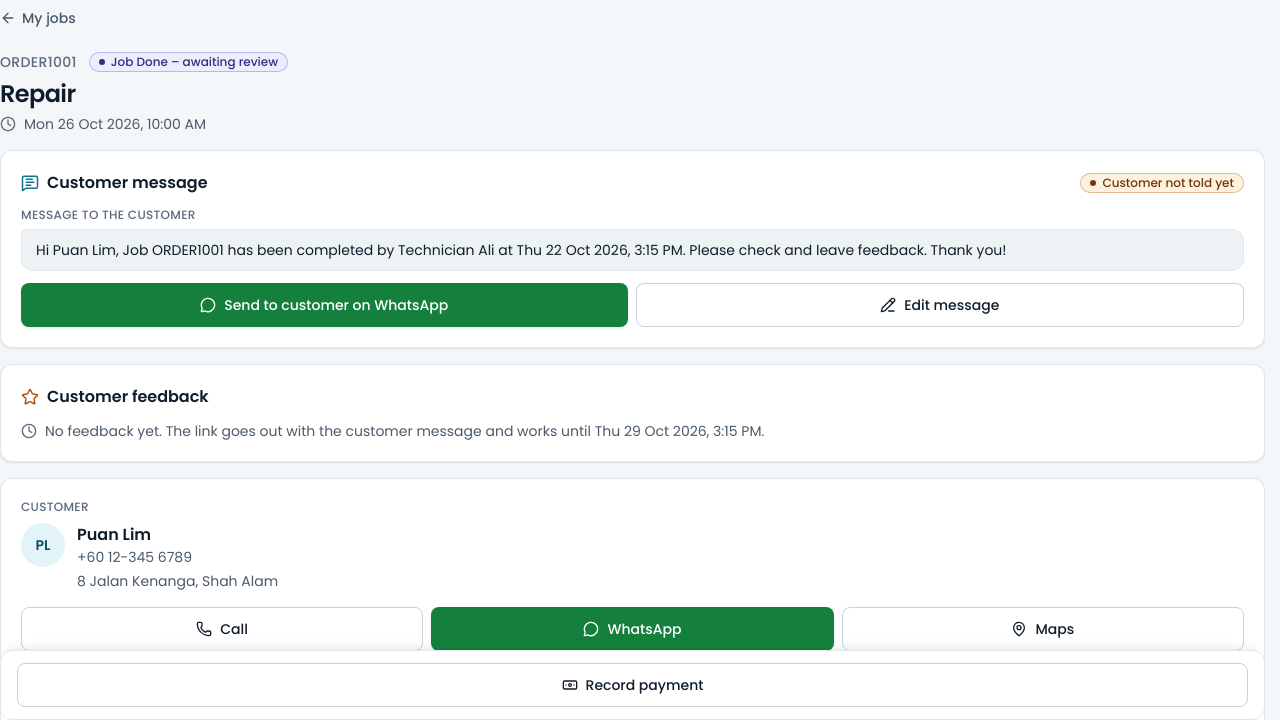
Test: Customer message (0003) › confirms from the job page and shows who sent it
This screenshot has width=1280, height=720.
Click the link "Send to customer on WhatsApp" at (324, 305), box x1=21 y1=283 x2=628 y2=327
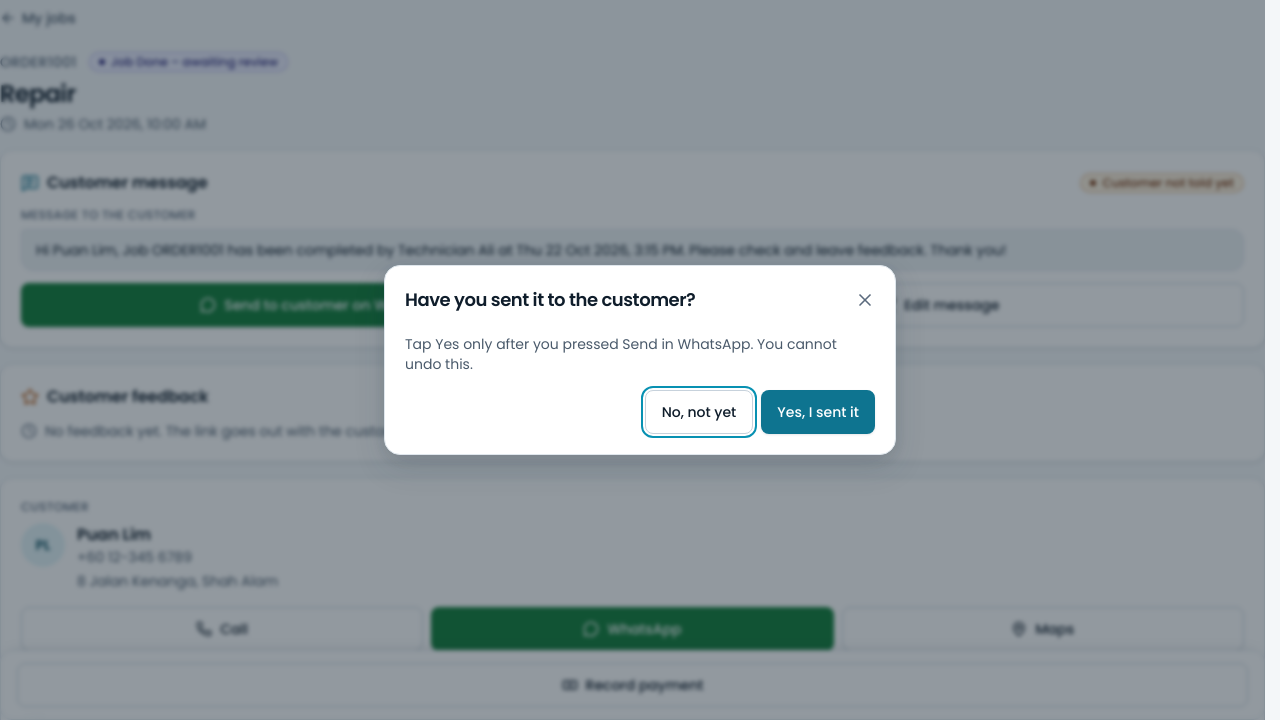
Click the button "Yes, I sent it" at (818, 412), box x1=761 y1=390 x2=875 y2=434
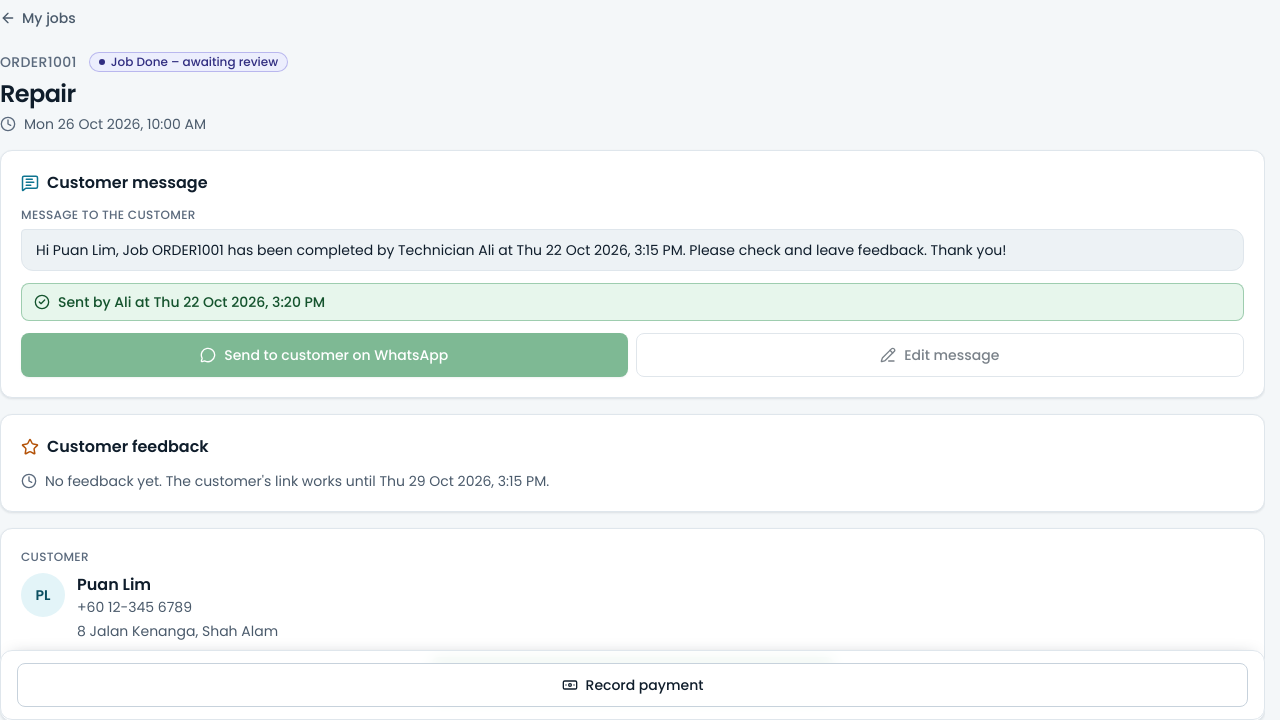
Check: the text "Sent by Ali at Thu 22 Oct 2026, 3:20 PM" is shown, box x1=21 y1=283 x2=1244 y2=321
Check: the text "Customer not told yet" is gone
